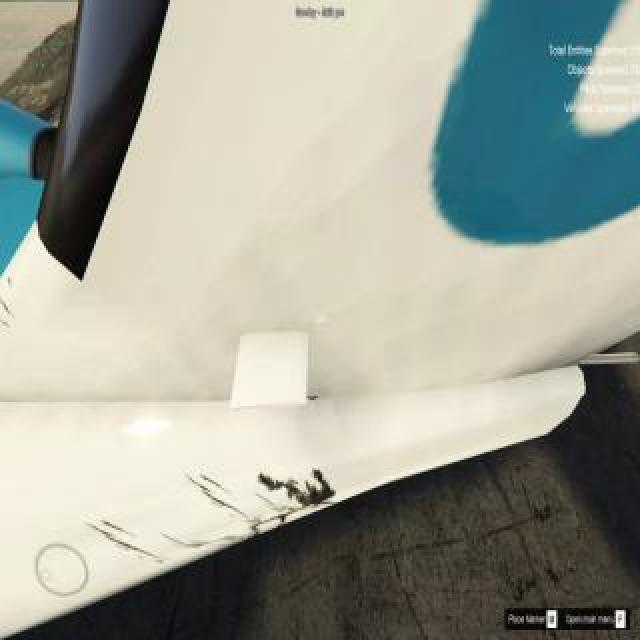dent: (259, 470, 335, 511), (93, 526, 160, 559), (253, 506, 300, 530)
